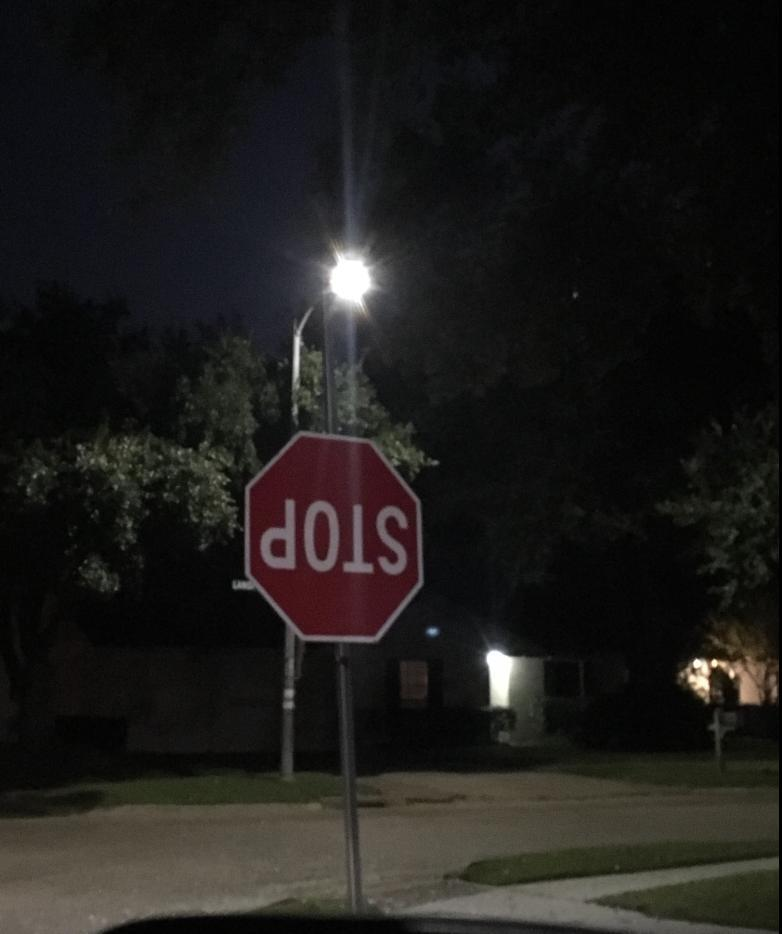Stop-Sign: (245, 432, 424, 640)
